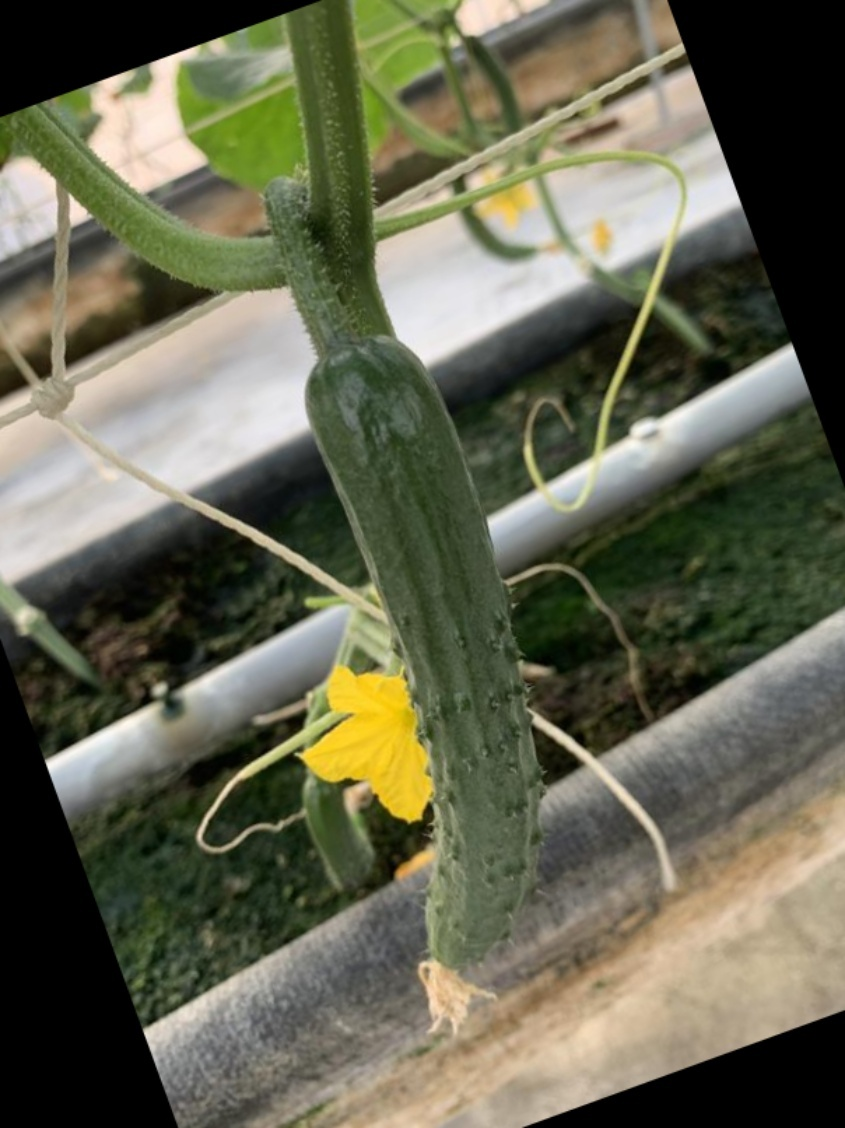mature: (289, 328, 583, 994)
